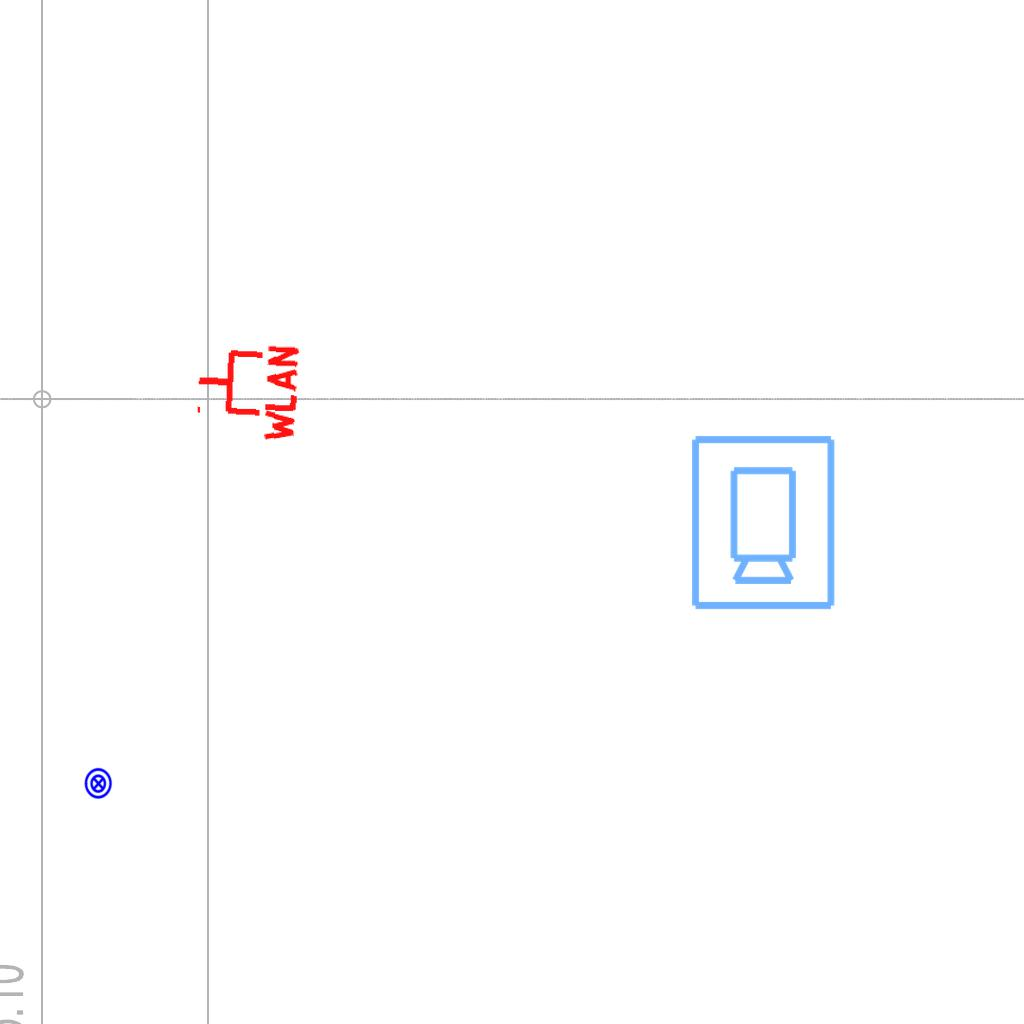KFO_Kamera_mit_Festobjektiv: (685, 431, 839, 613)
Taster_beleuchtet: (82, 767, 115, 800)
WLAN: (191, 337, 302, 447)
